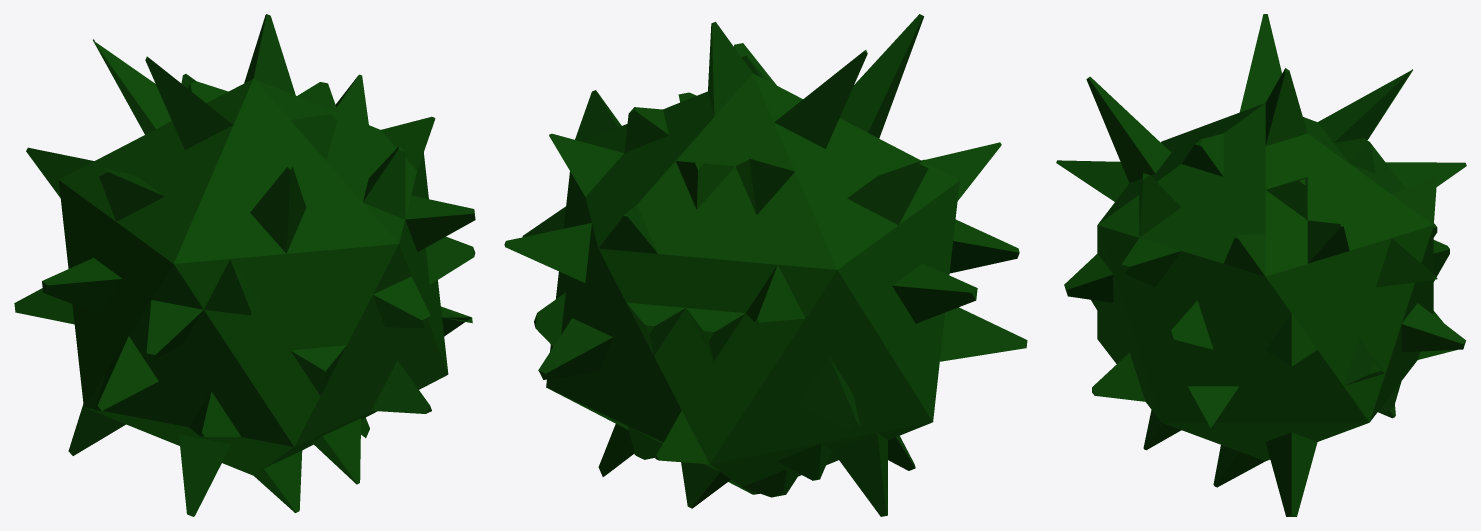
Rendered from berrybushb.dae.
3 renders of one model, left to right at view 1: azimuth 30°, elevation 25°; view 2: azimuth 150°, elevation 25°; view 3: azimuth 270°, elevation 25°, orthographic. The views are drawn at different scales.
Parts seen in each view (by area): view 1: bush; view 2: bush; view 3: bush.
Part boxes in pixels (x1,y1,x2,y2): bush: [14, 14, 475, 516]; bush: [504, 14, 1027, 516]; bush: [1056, 14, 1466, 516].
Size of what is drawn, in the model's own units: 2.56 by 2.44 by 2.78.
